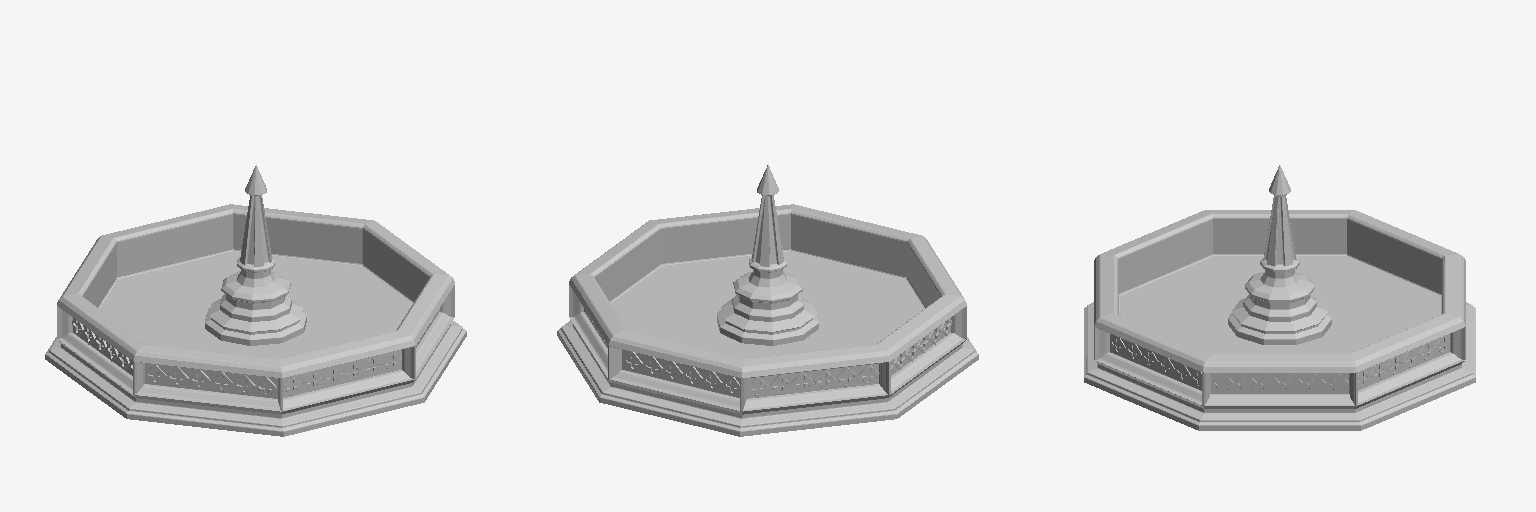
Rendered from Fountain.obj.
3 renders of one model, left to right at view 1: azimuth 30°, elevation 25°; view 2: azimuth 150°, elevation 25°; view 3: azimuth 270°, elevation 25°, orthographic.
Visible parts, largest first — view 1: default; view 2: default; view 3: default.
Part boxes in pixels (x1,y1,x2,y2): default: (45,165,466,436); default: (557,165,978,436); default: (1084,165,1475,430).
Bounding box in the file's own units: 7.89 × 4.07 × 7.89.